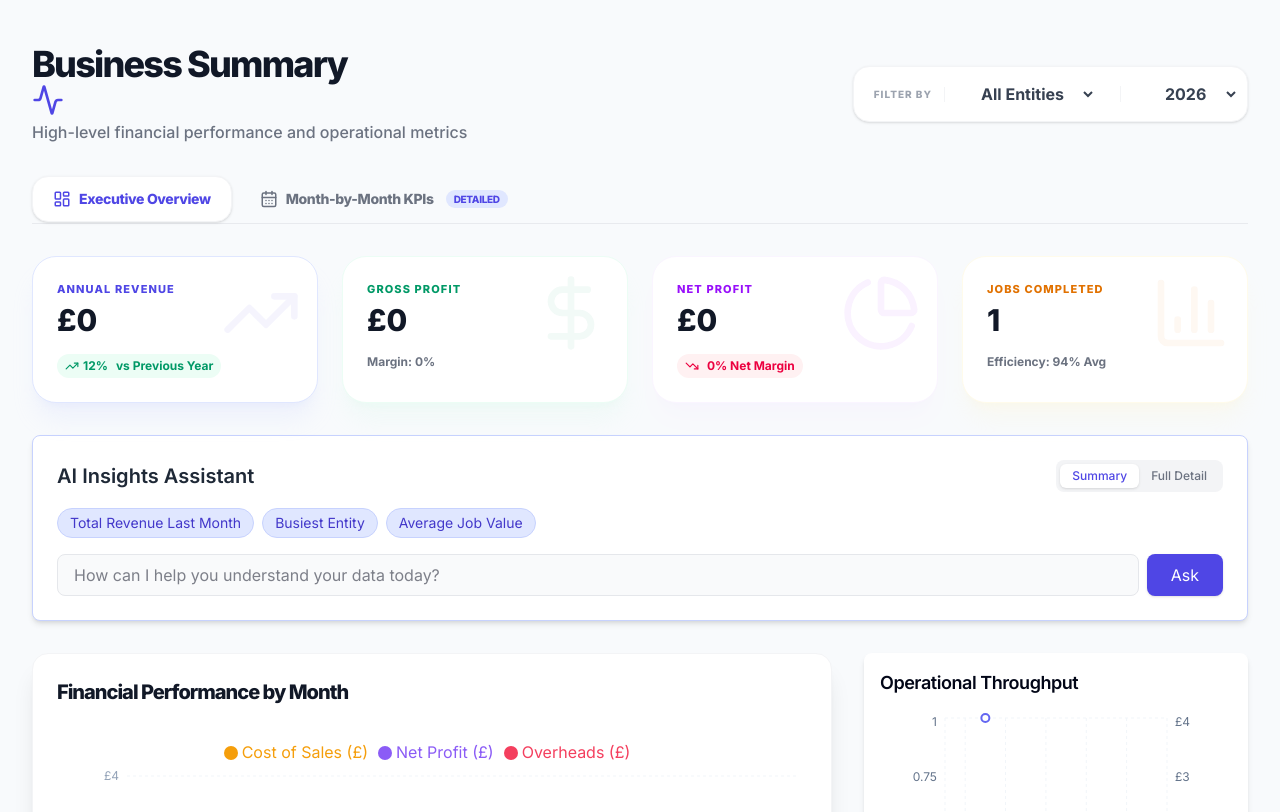
Test: DirectorsDashboard › switches to Month-by-Month KPIs tab and displays metrics
Click the button "Month-by-Month KPIs Detailed" at (384,199), box [240,177,528,221]
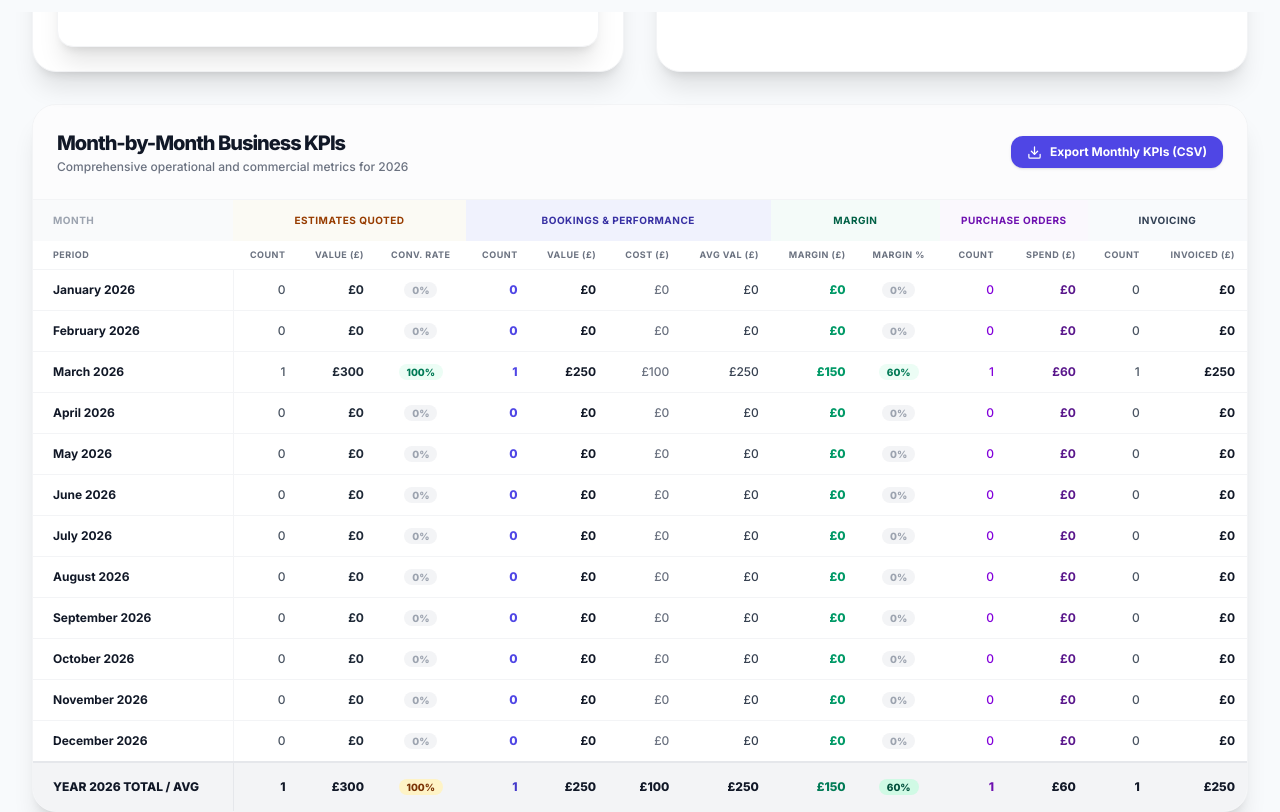
Now the heading "Month-by-Month Business KPIs" is shown, box [57,131,345,155]
Now the button "Export Monthly KPIs (CSV)" is shown, box [1011,136,1223,168]
Now the text "YEAR 2026 TOTAL / AVG" is shown, box [33,762,234,811]
